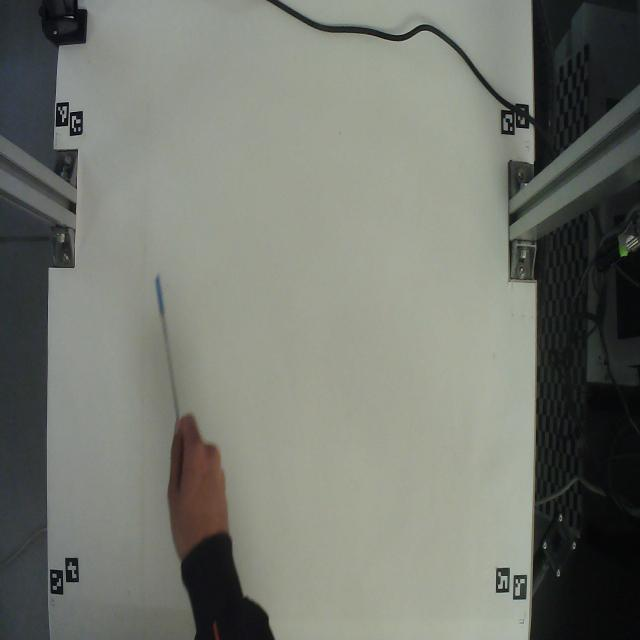NoPres: (148, 272, 184, 440)
